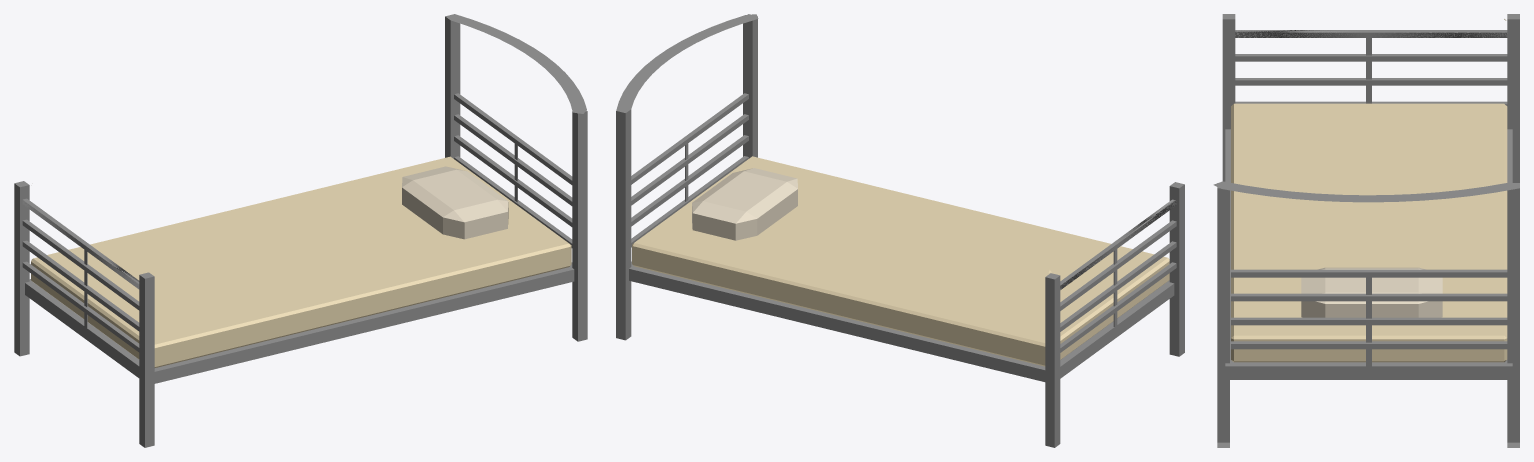
The model's file is Bed.fbx.
The picture shows the model from 3 angles, left to right: view 1: azimuth 30°, elevation 25°; view 2: azimuth 150°, elevation 25°; view 3: azimuth 270°, elevation 25°; orthographic projection. The views are drawn at different scales.
Parts seen in each view (by area): view 1: BunkBed2, Cube; view 2: BunkBed2, Cube; view 3: BunkBed2, Cube.
Part boxes in pixels (bbox=[...]): BunkBed2: bbox=[14, 14, 587, 447]; Cube: bbox=[402, 166, 508, 239]; BunkBed2: bbox=[616, 14, 1184, 447]; Cube: bbox=[692, 168, 797, 240]; BunkBed2: bbox=[1213, 14, 1519, 447]; Cube: bbox=[1301, 267, 1442, 317].
Size of the model in its own units: 383 by 181 by 192.
